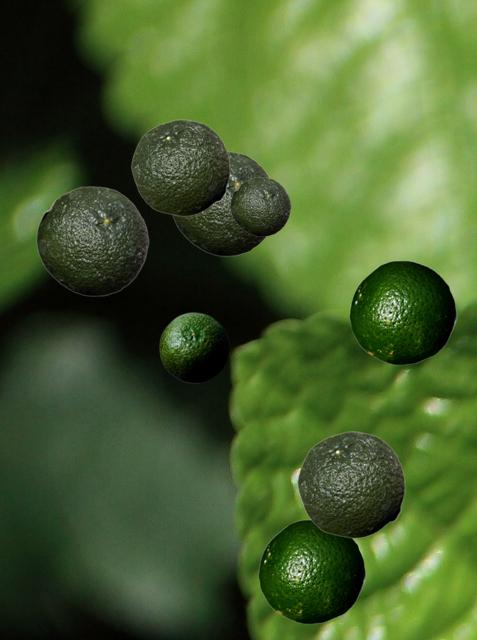calamansi: (36, 186, 148, 295), (297, 431, 404, 537), (258, 519, 365, 623), (349, 260, 456, 364), (172, 151, 270, 255), (131, 119, 229, 215), (159, 312, 228, 382), (230, 177, 290, 235)
